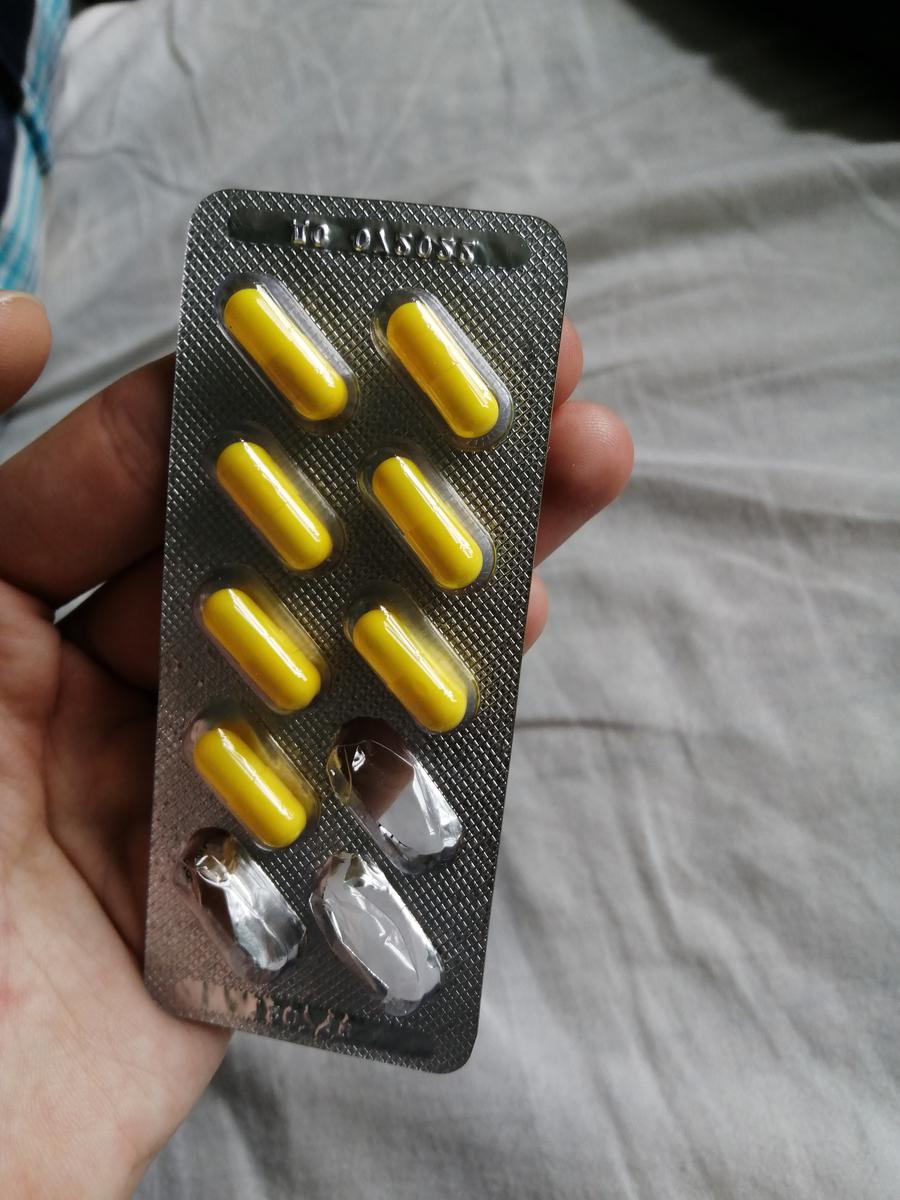capsule: (215, 281, 355, 433), (379, 290, 507, 452), (205, 436, 334, 578), (365, 455, 488, 593), (196, 586, 324, 714), (346, 605, 469, 738), (184, 724, 307, 850)
